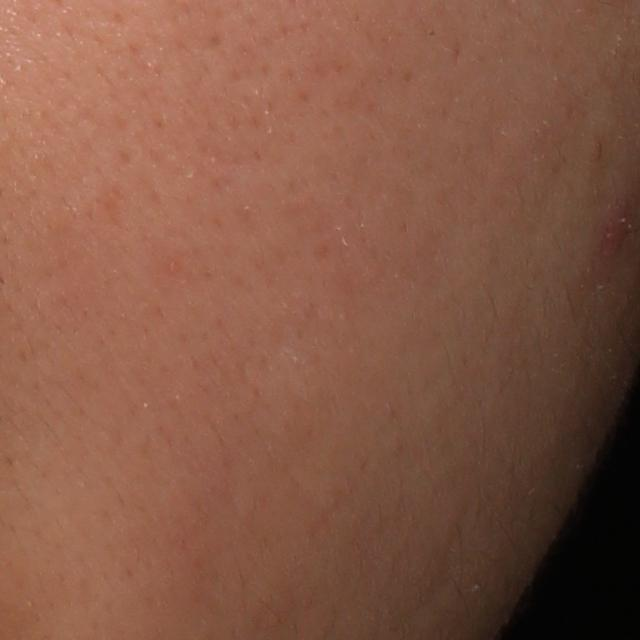papule: (598, 208, 635, 254)
